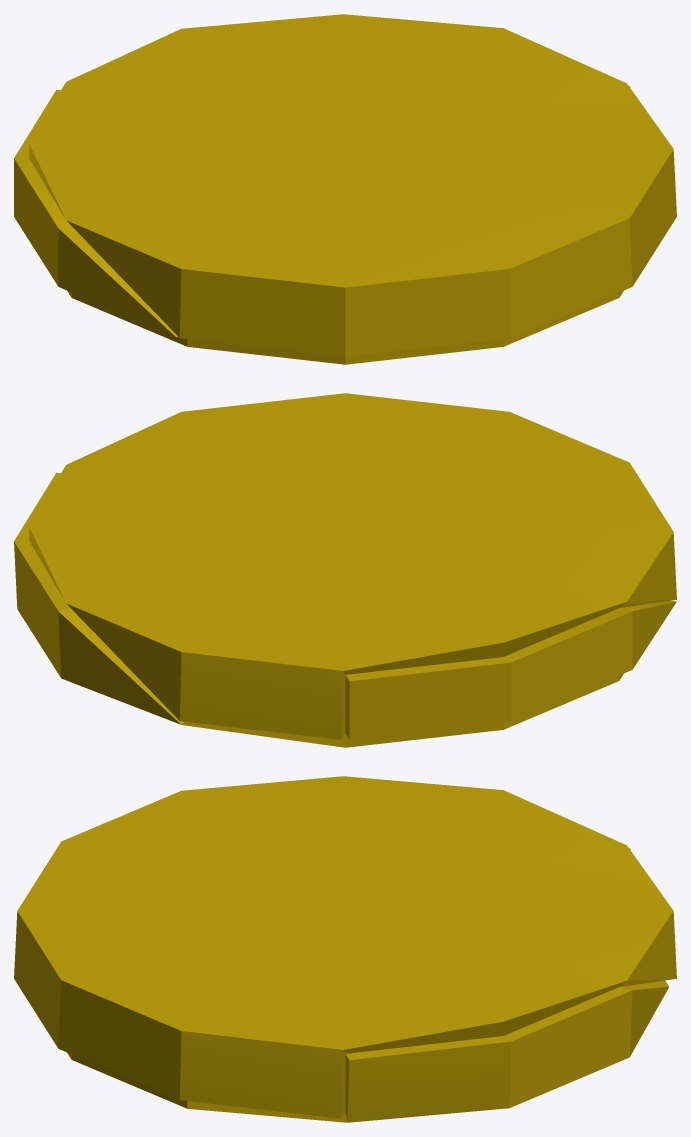
The model's file is CoinShatter.fbx.
3 renders of one model, top to bottom at view 1: azimuth 30°, elevation 25°; view 2: azimuth 150°, elevation 25°; view 3: azimuth 270°, elevation 25°, orthographic.
Visible parts, largest first — view 1: shard69, shard71, shard70; view 2: shard69, shard71, shard70; view 3: shard69, shard70.
Boxes of the visible parts, bbox=[...] form: shard69: bbox=[29, 14, 676, 356]; shard71: bbox=[14, 89, 177, 336]; shard70: bbox=[67, 86, 630, 364]; shard69: bbox=[29, 393, 676, 739]; shard71: bbox=[345, 600, 676, 739]; shard70: bbox=[14, 472, 623, 747]; shard69: bbox=[14, 776, 676, 1118]; shard70: bbox=[67, 980, 668, 1122].
Size of the model in its own units: 2.1 by 0.3042 by 2.1.
